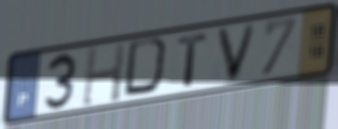3: (42, 51, 79, 113)
7: (261, 15, 299, 80)
D: (121, 35, 174, 99)
H: (80, 41, 128, 109)
T: (175, 30, 210, 89)
V: (214, 20, 260, 85)
